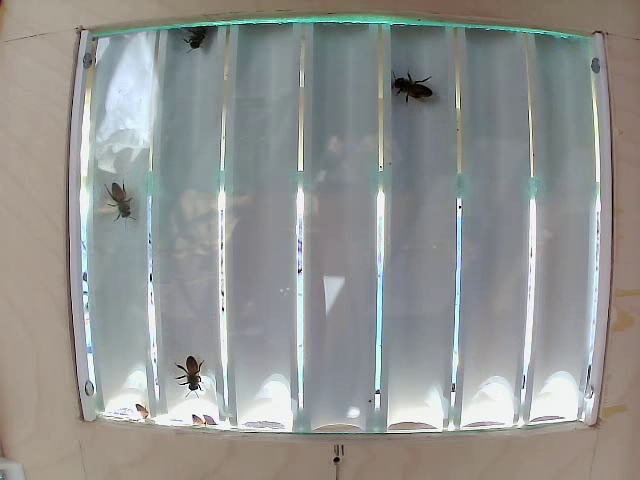bee: (176, 337, 213, 398), (101, 185, 148, 233), (408, 75, 433, 107)
